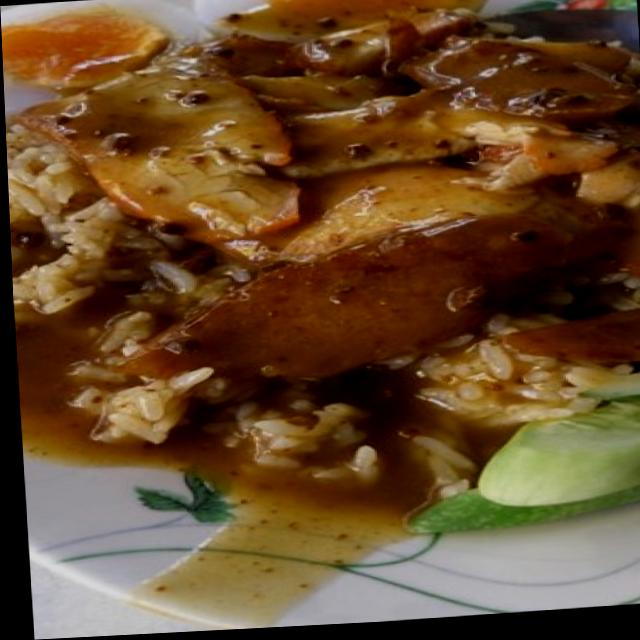猪肉菜式: (10, 0, 640, 558)
